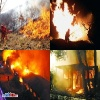fire: (53, 1, 83, 41), (3, 51, 38, 83), (20, 7, 50, 38), (63, 67, 95, 94)
